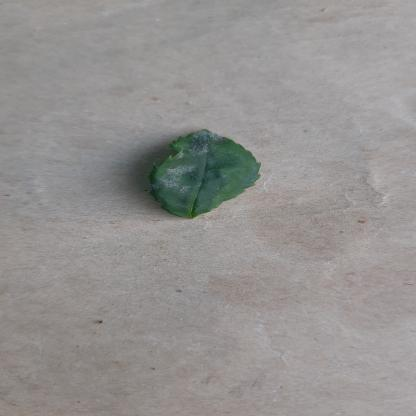powdery-mildew: (139, 128, 267, 220)
